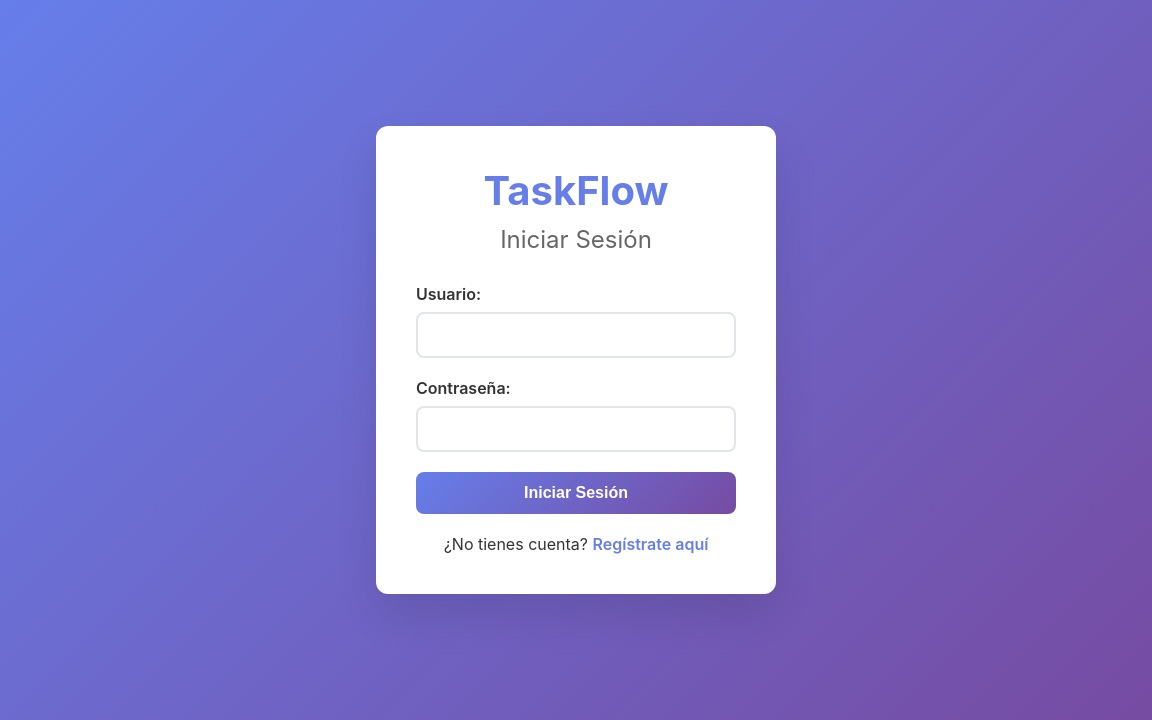
Test case: Login Component › shows loading state during login
Step 1. Type "testuser" into the field labelled "Usuario:" → (576, 335), box [416,312,736,358]
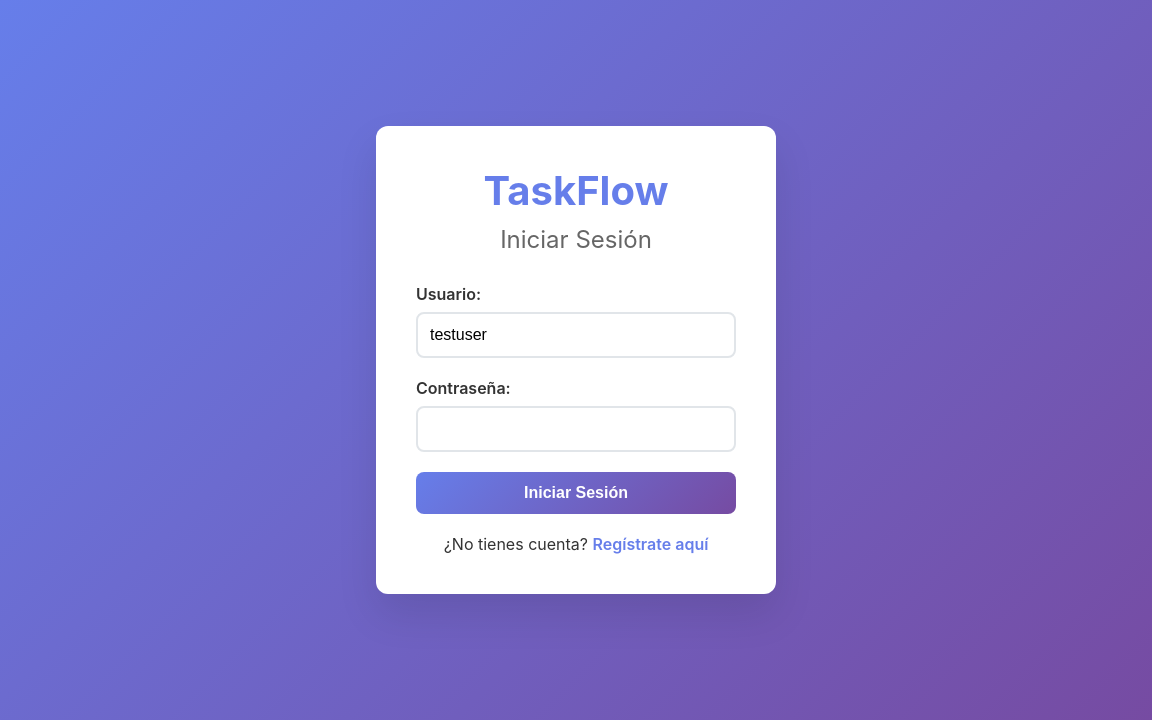
Step 2. Type "testpass" into the password field labelled "Contraseña:" → (576, 429), box [416,406,736,452]
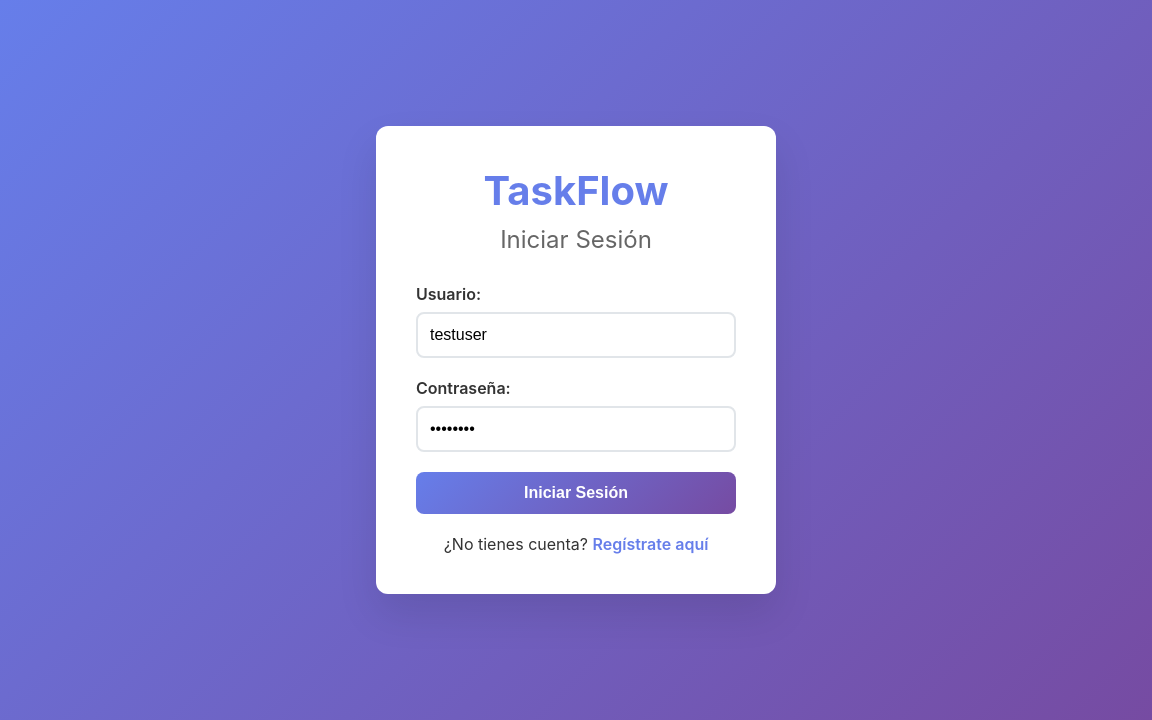
Step 3. Click the button "Iniciar Sesión" → (576, 493), box [416,472,736,514]
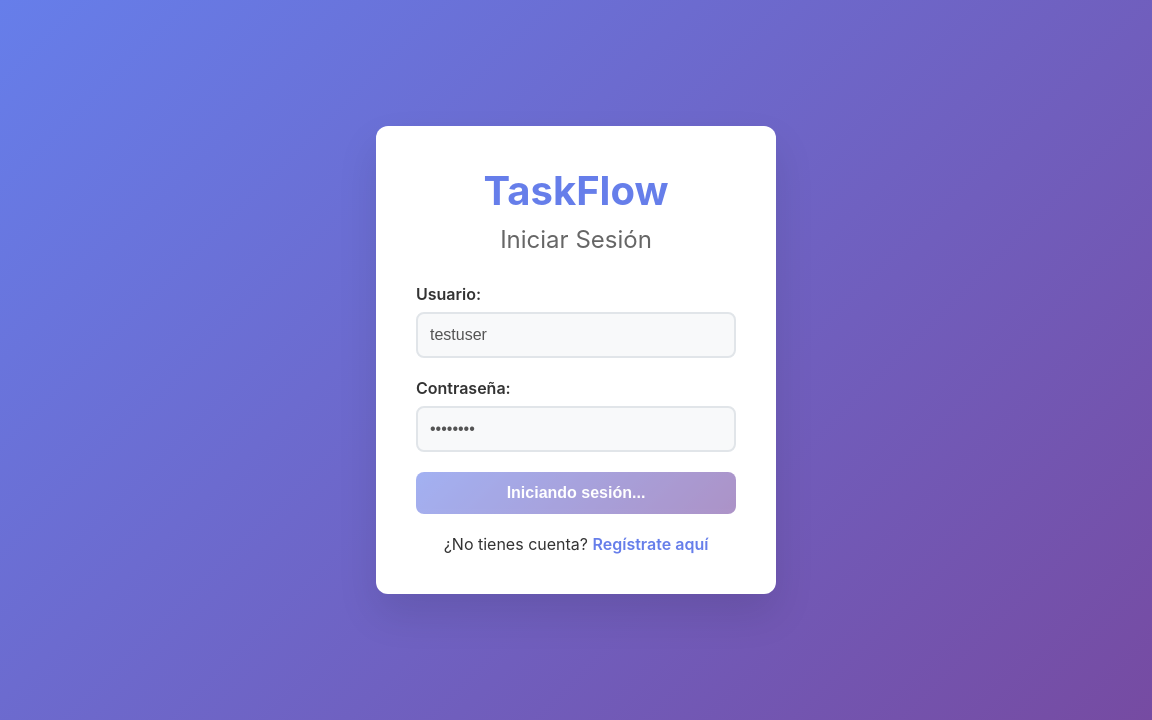
Now the button "Iniciando sesión..." is disabled, box [416,472,736,514]
